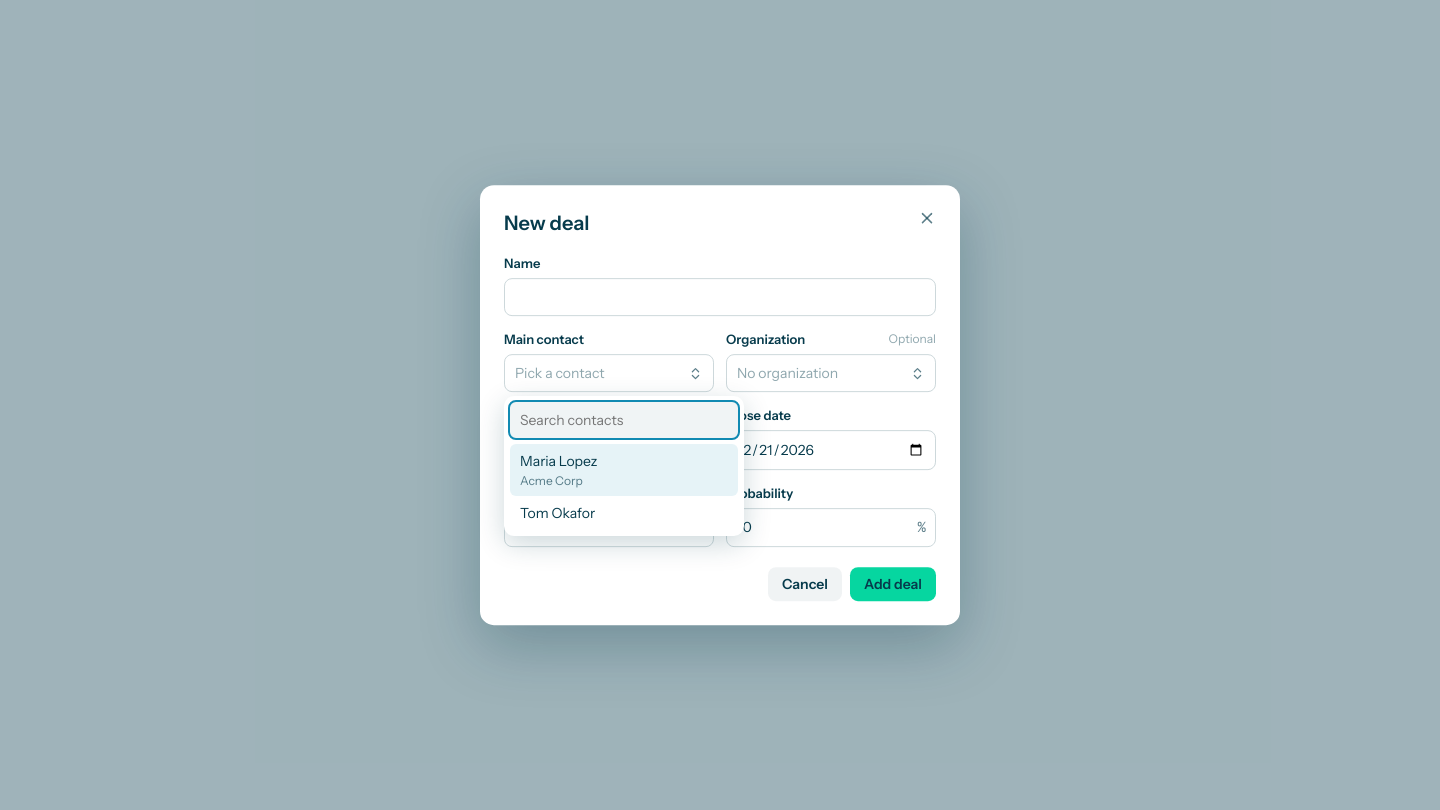
DealForm › fills in the organization from the contact, which can then be changed
The width and height of the screenshot is (1440, 810).
Earlier steps of the test are not shown.
Type "maria" into the dropdown with placeholder "Search contacts".
click(624, 420); type("maria")  # box [510,402,738,438]
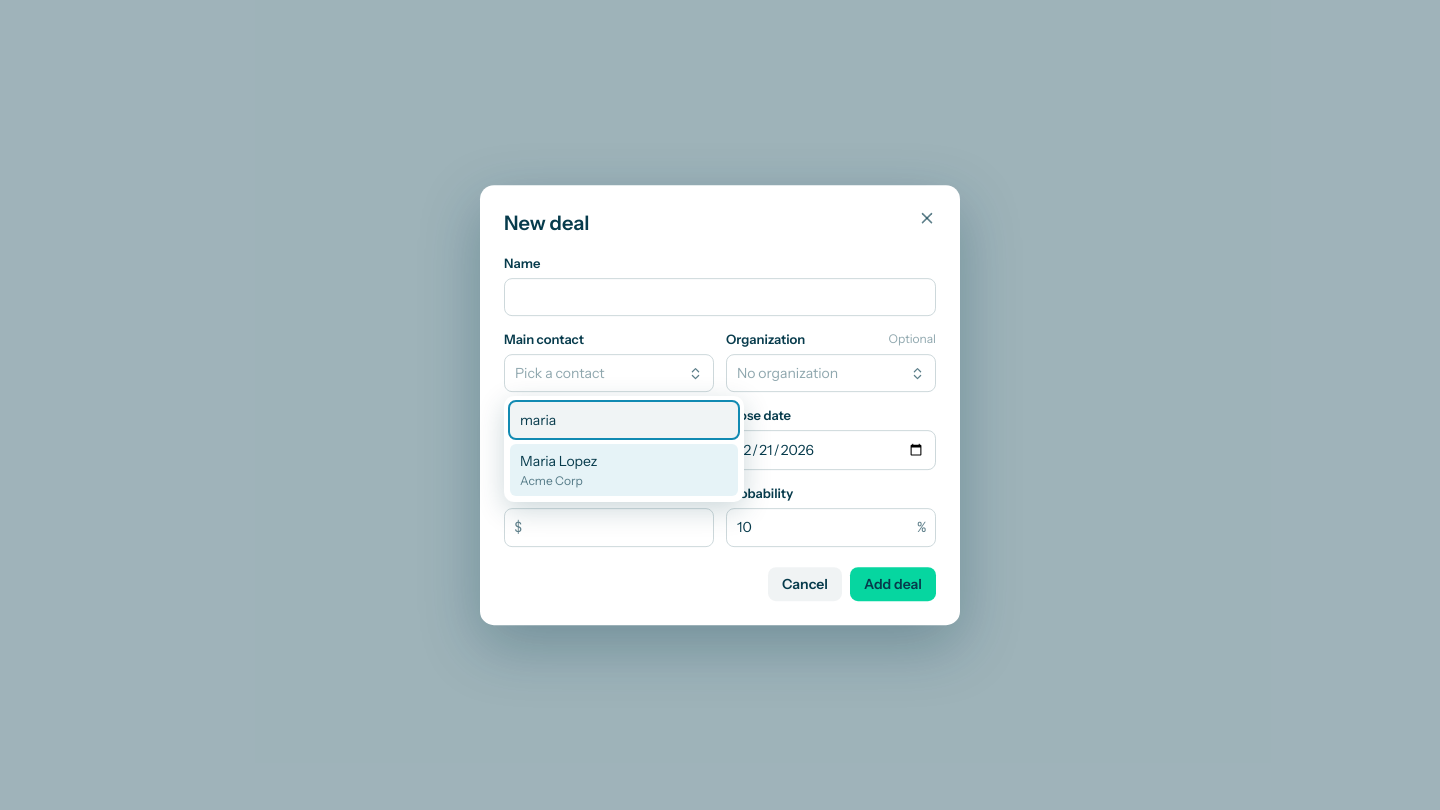
Click the option "Maria Lopez Acme Corp".
click(624, 470)  # box [510,444,738,496]
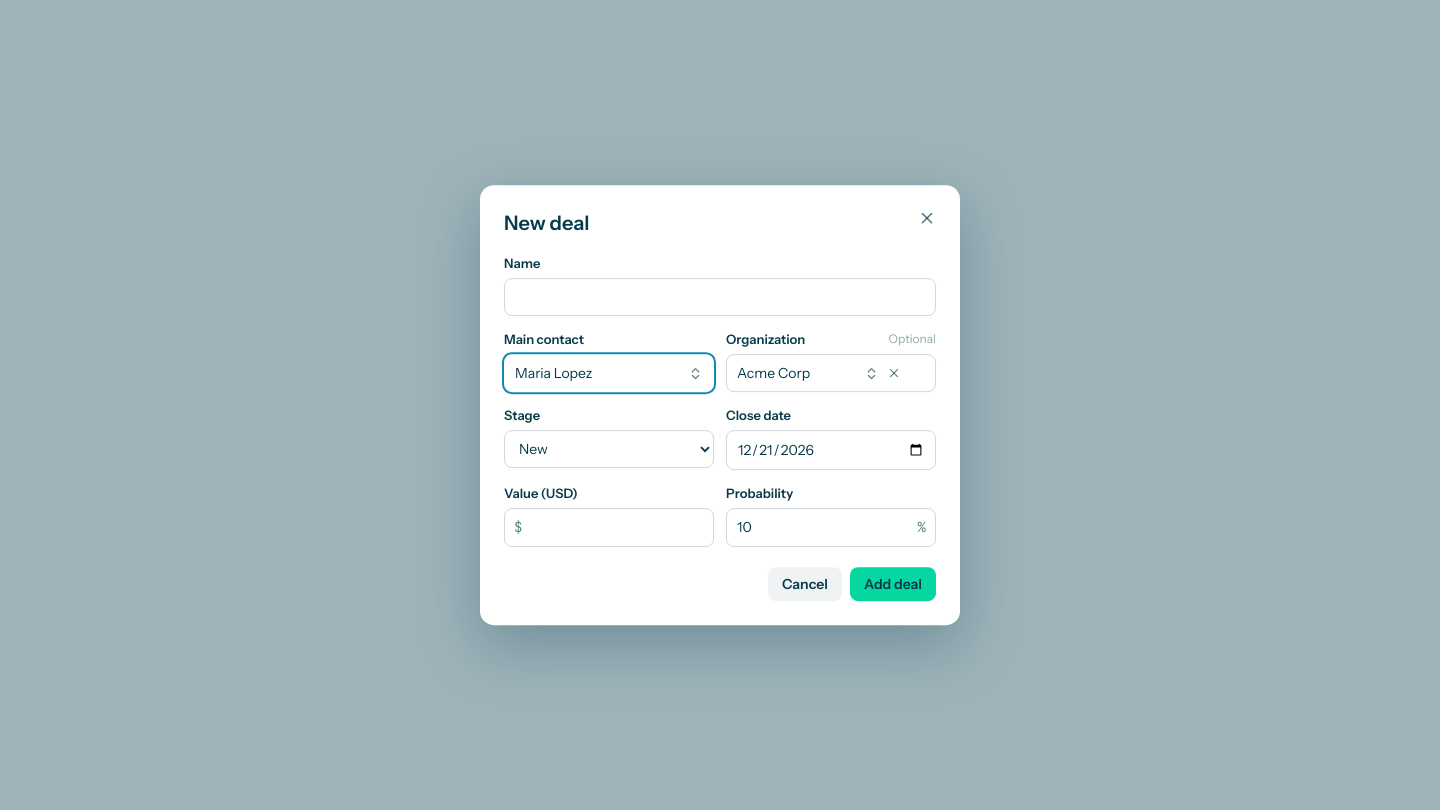
Result: the dropdown named "Main contact" reads "Maria Lopez" at [504,354,714,392]
Result: the dropdown named "Organization" reads "Acme Corp"
Click the dropdown labelled "Acme Corp".
click(831, 373)  # box [726,354,936,392]
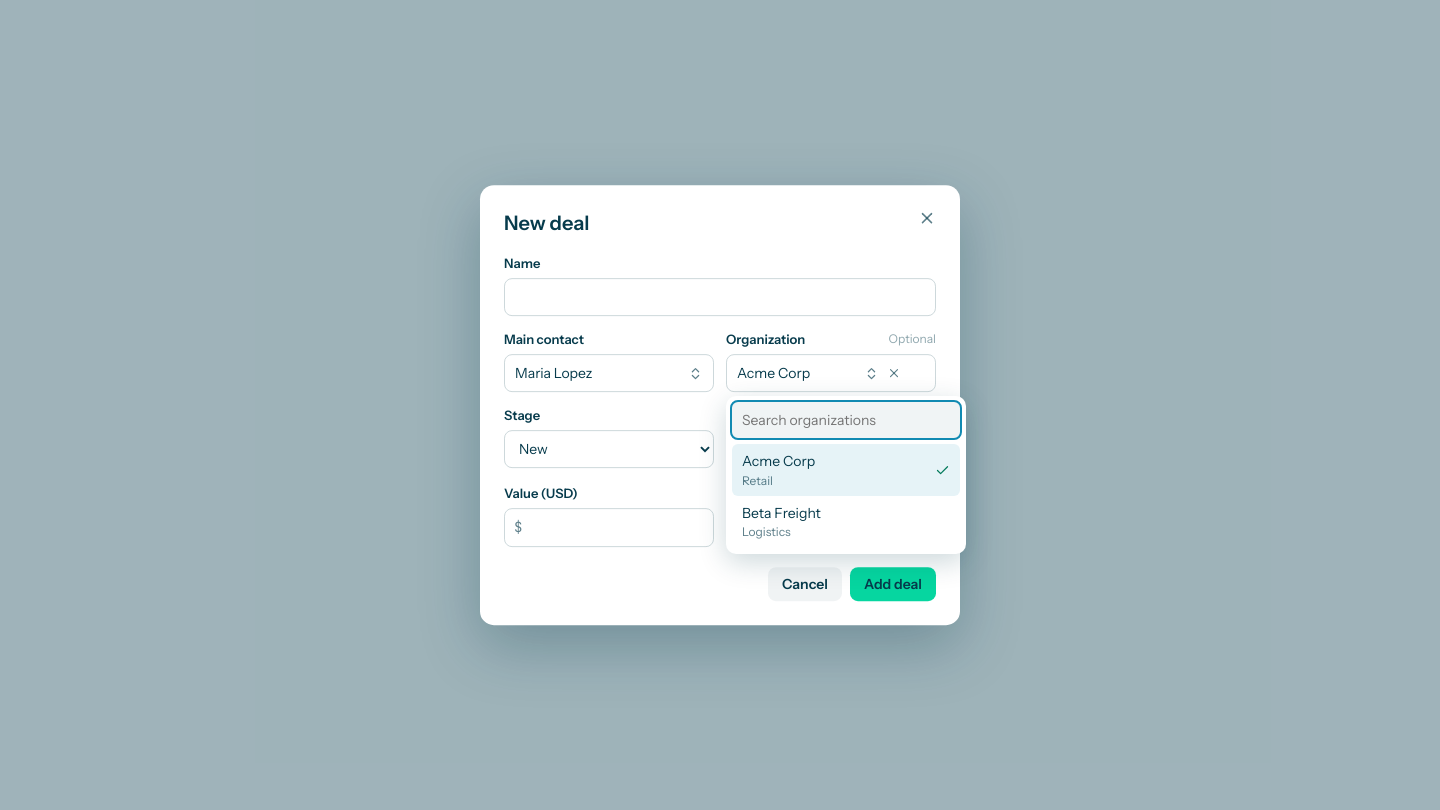
Type "beta" into the dropdown with placeholder "Search organizations".
click(846, 420); type("beta")  # box [732,402,960,438]
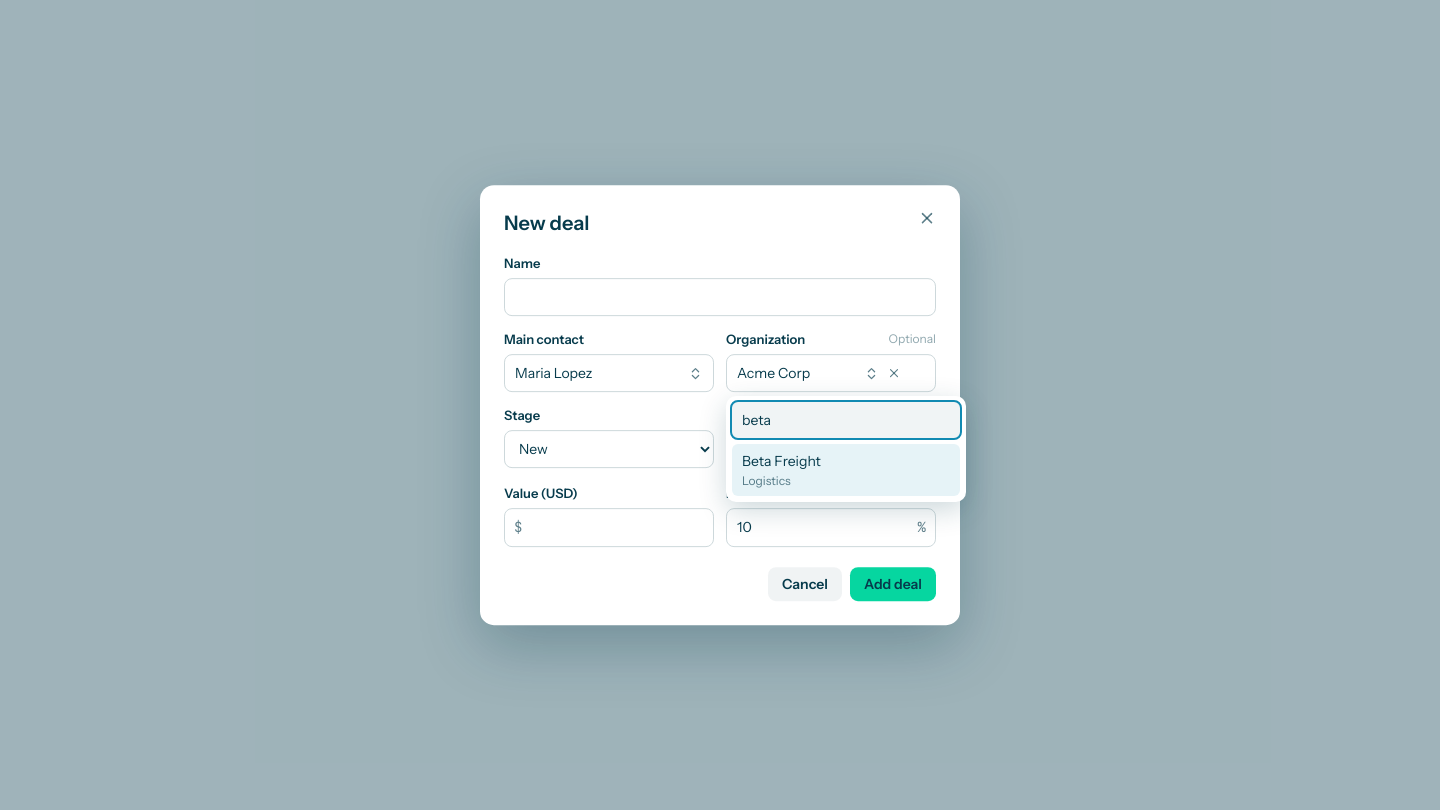
Click the option "Beta Freight Logistics".
click(846, 470)  # box [732,444,960,496]
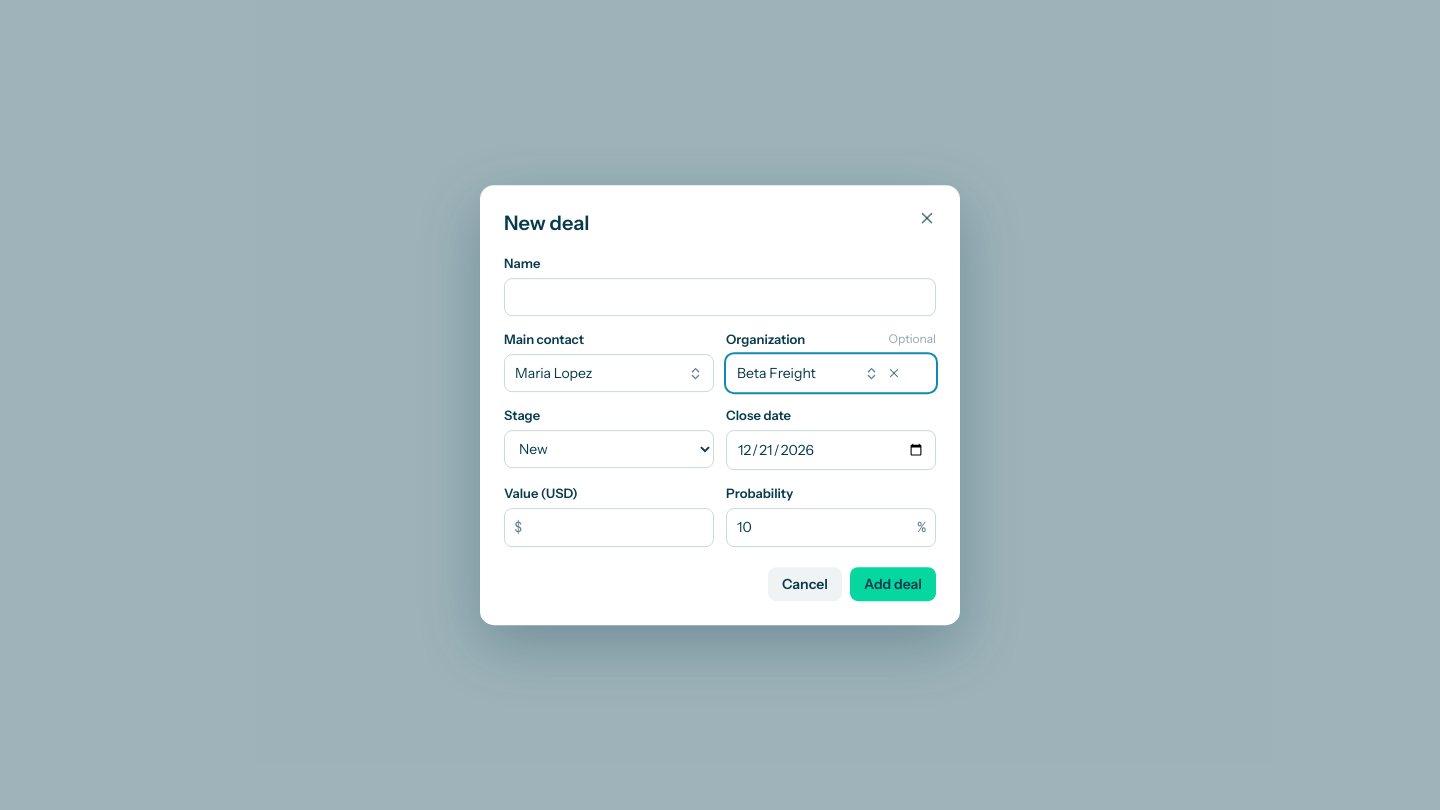
Result: the dropdown named "Organization" reads "Beta Freight" at [726,354,936,392]
Click the button named "Clear".
click(894, 373)  # box [882,361,906,385]
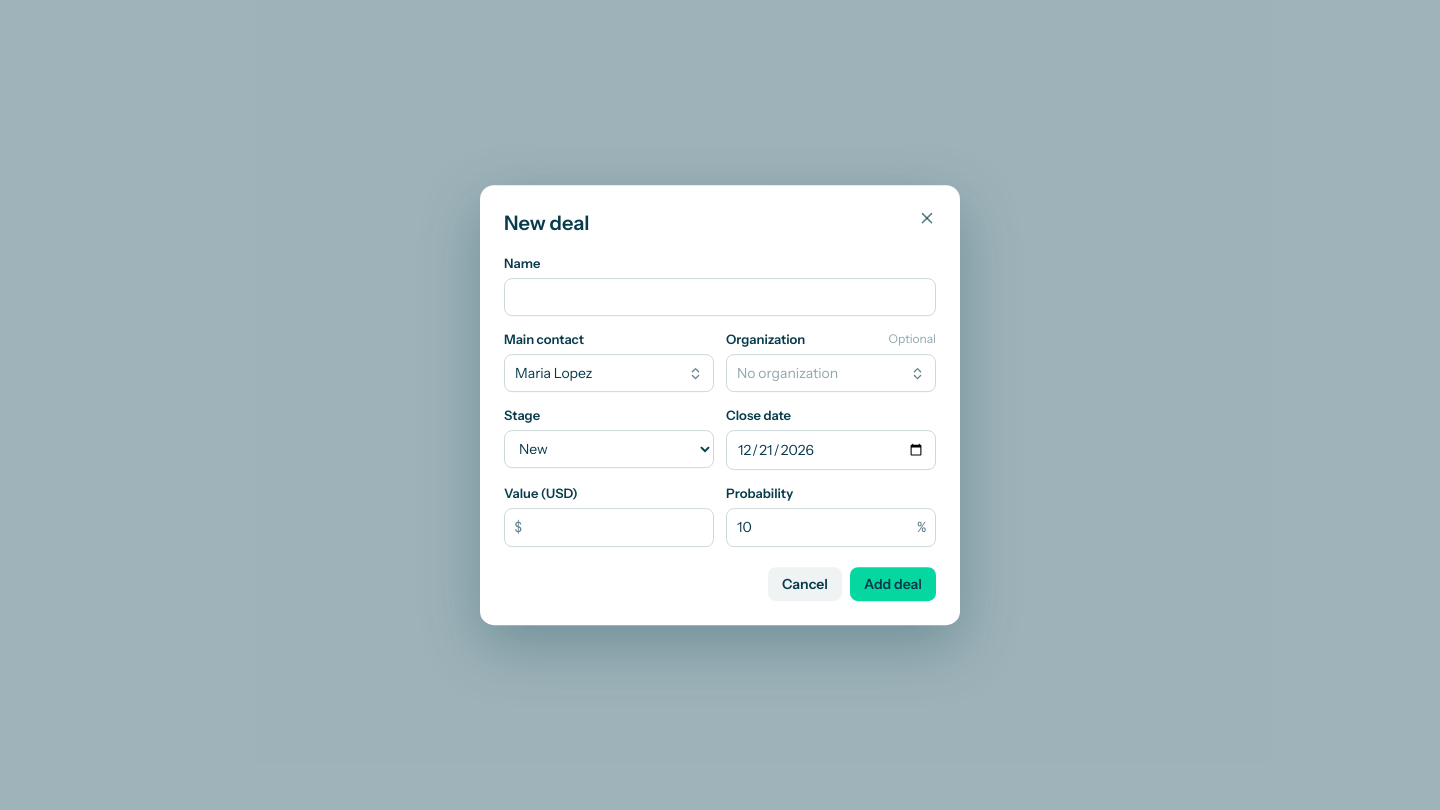
Result: the dropdown labelled "No organization" is shown at [726,354,936,392]
